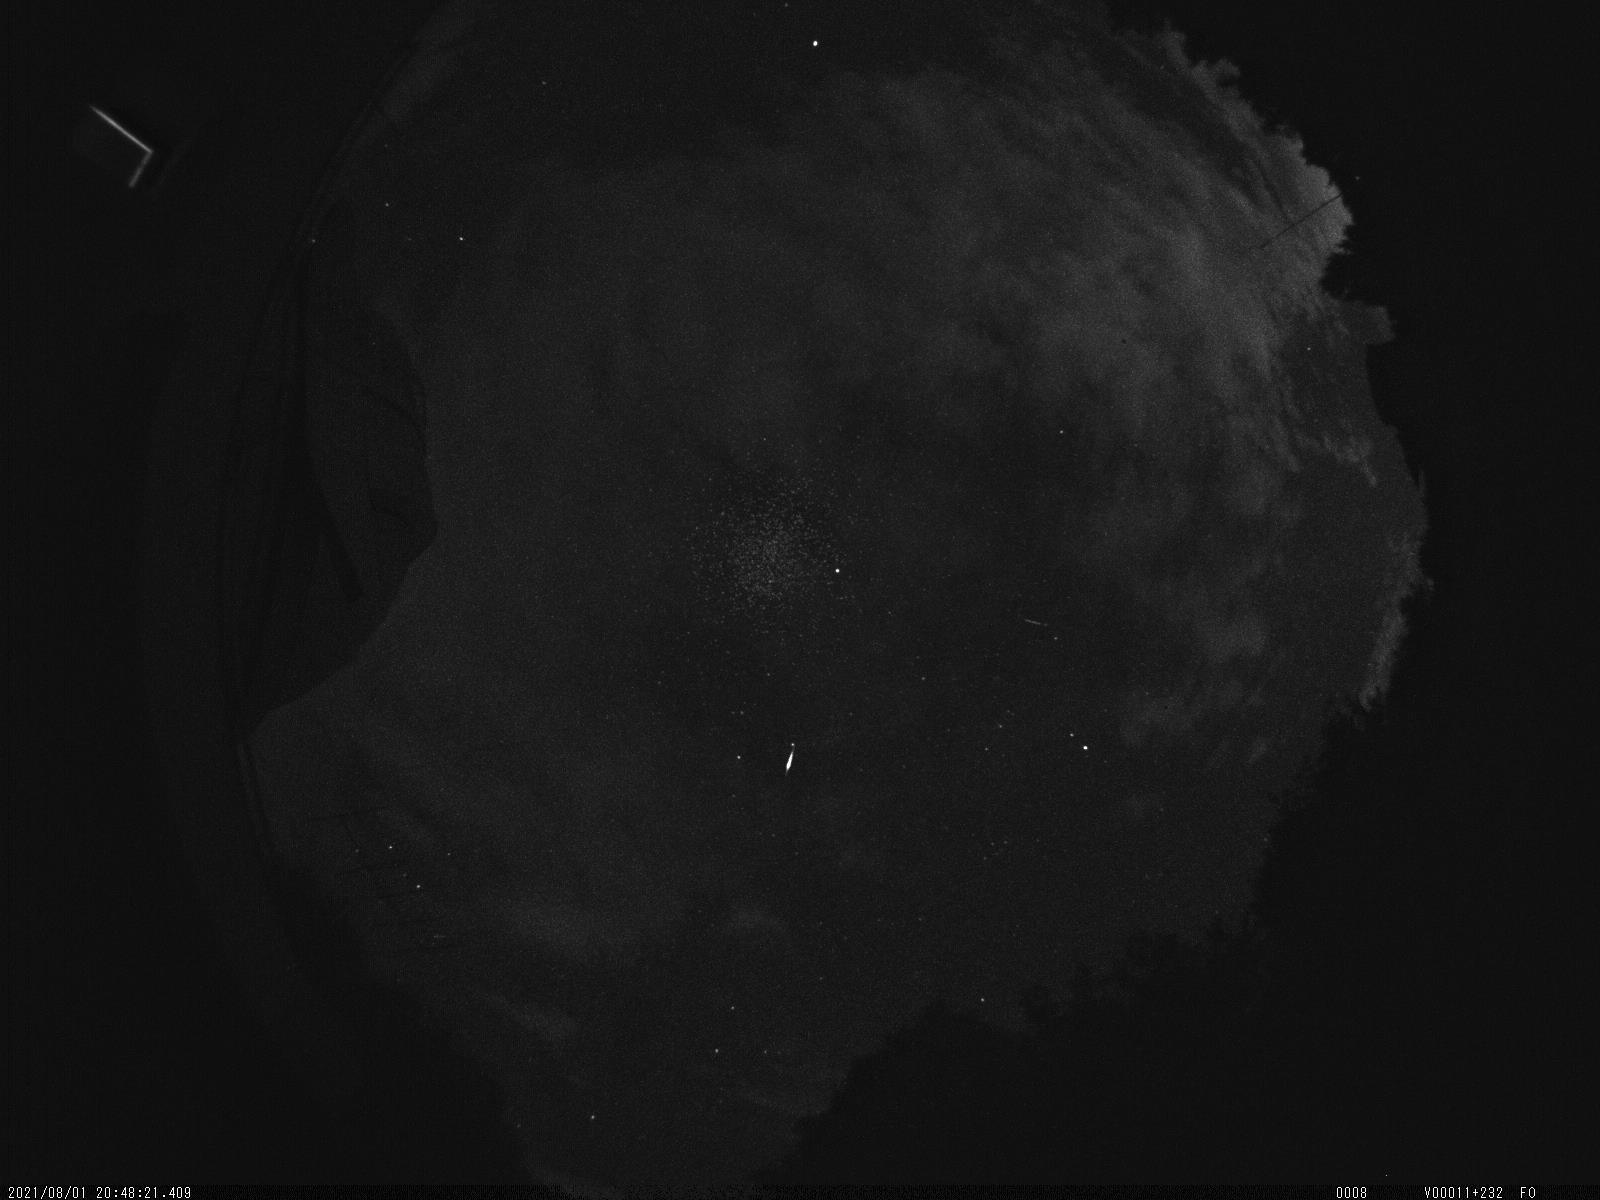Meteor: (774, 734, 805, 788)
